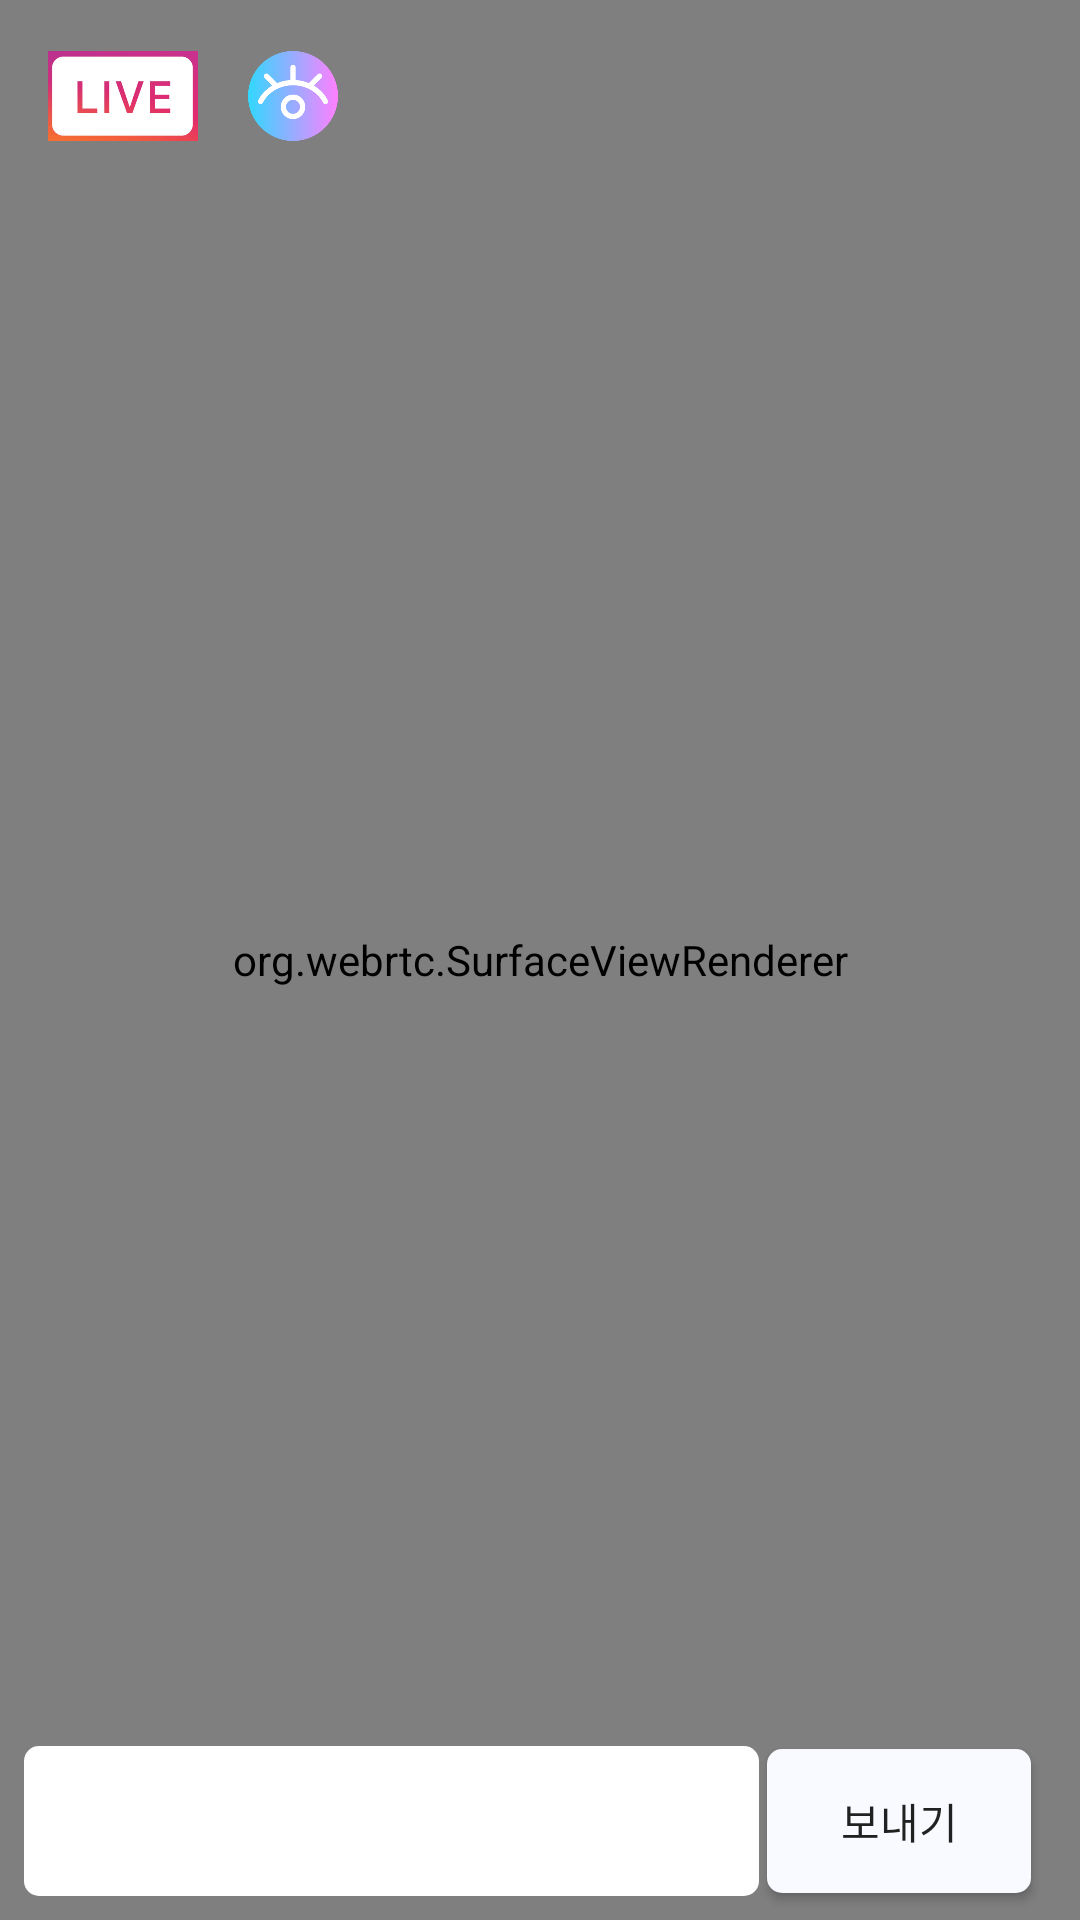

Icon bounding boxes for this 1080×1920 phone screenshot, format bbox=[x1, y1, x2, y2]:
viewer: bbox=[248, 51, 338, 141]
